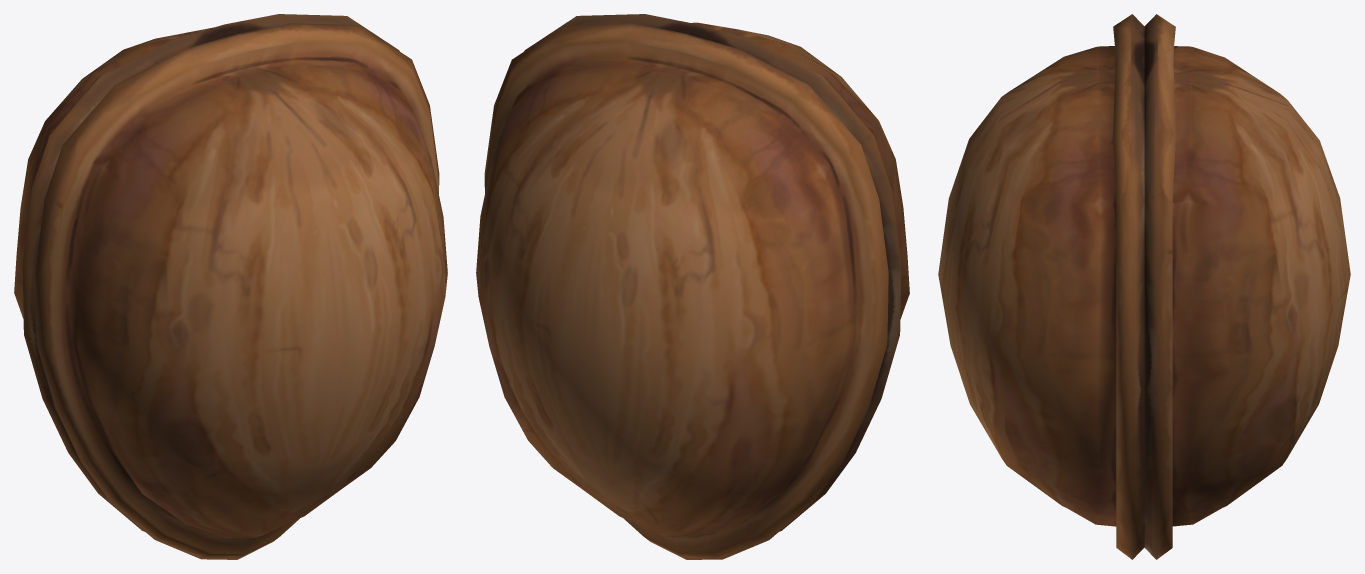
The model's file is Walnut.fbx.
The picture shows the model from 3 angles, left to right: view 1: azimuth 30°, elevation 25°; view 2: azimuth 150°, elevation 25°; view 3: azimuth 270°, elevation 25°; orthographic projection. The views are drawn at different scales.
Parts seen in each view (by area): view 1: Walnut; view 2: Walnut; view 3: Walnut.
Boxes of the visible parts, bbox=[...] form: Walnut: bbox=[14, 14, 447, 559]; Walnut: bbox=[476, 14, 909, 559]; Walnut: bbox=[938, 14, 1350, 559].
Size of what is drawn, in the model's own units: 83.16 by 104 by 77.16.
Materials: 1 (1 with a texture image).
